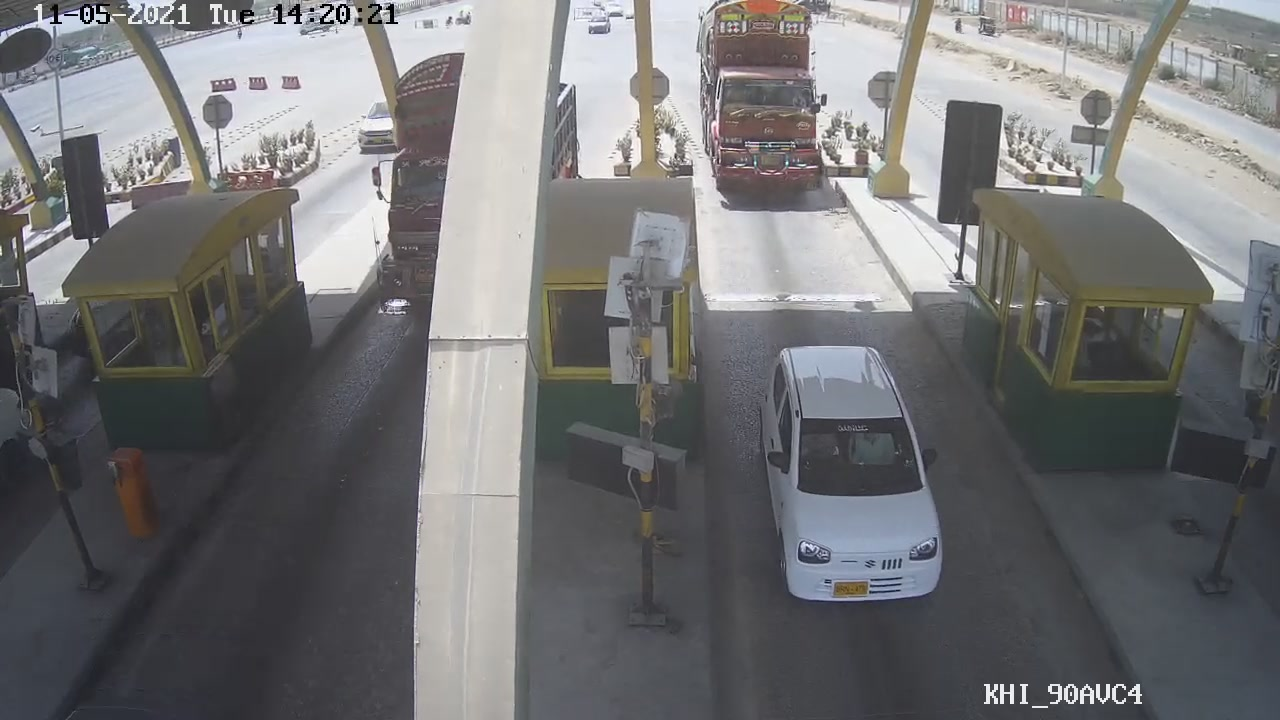F1: (755, 336, 954, 611)
